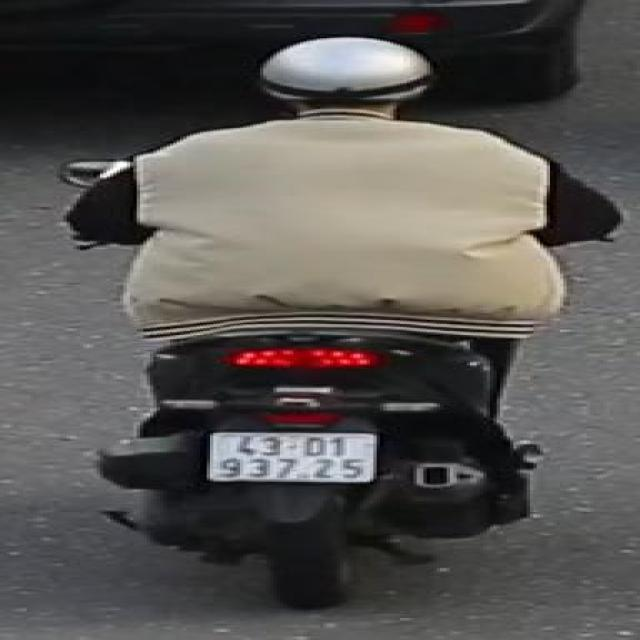LP: (198, 430, 382, 489)
helmet: (250, 32, 440, 127)
